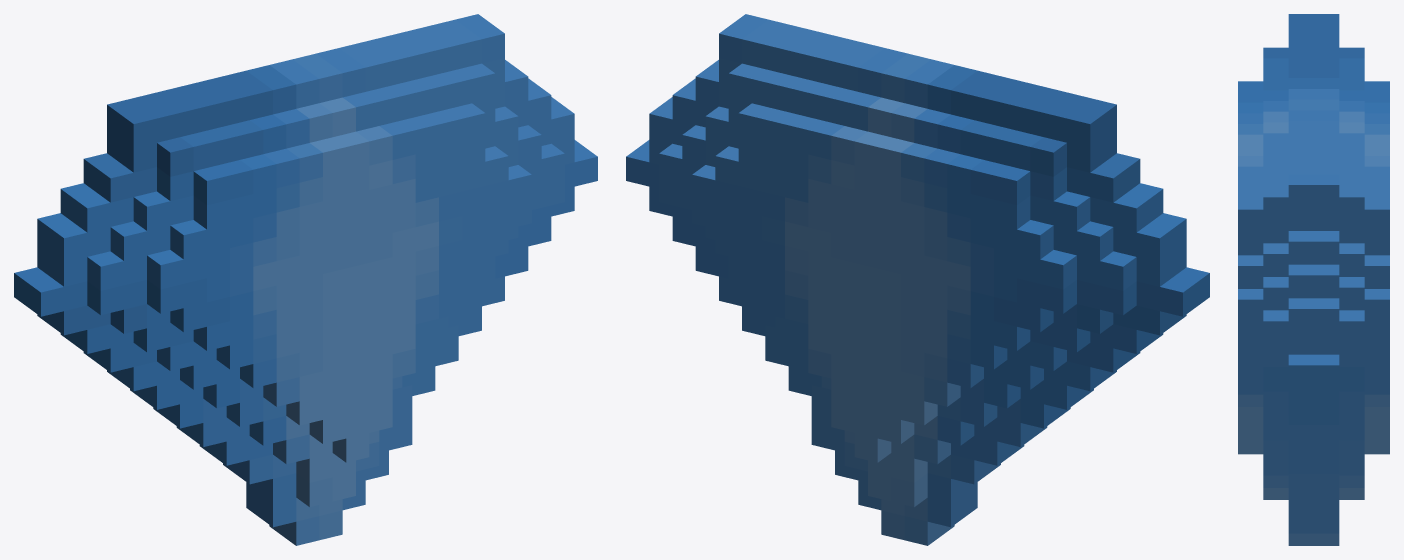
File: gem-blue.glb
3 renders of one model, left to right at view 1: azimuth 30°, elevation 25°; view 2: azimuth 150°, elevation 25°; view 3: azimuth 270°, elevation 25°, orthographic. The views are drawn at different scales.
Visible parts, largest first — view 1: prop; view 2: prop; view 3: prop.
Boxes of the visible parts, bbox=[...] form: prop: bbox=[14, 14, 597, 545]; prop: bbox=[626, 14, 1209, 545]; prop: bbox=[1238, 14, 1389, 545].
Size of the model in its own units: 16.42 by 13 by 4.11.
